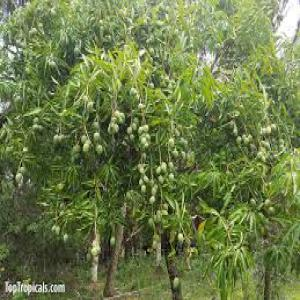Tree: (7, 5, 293, 292)
